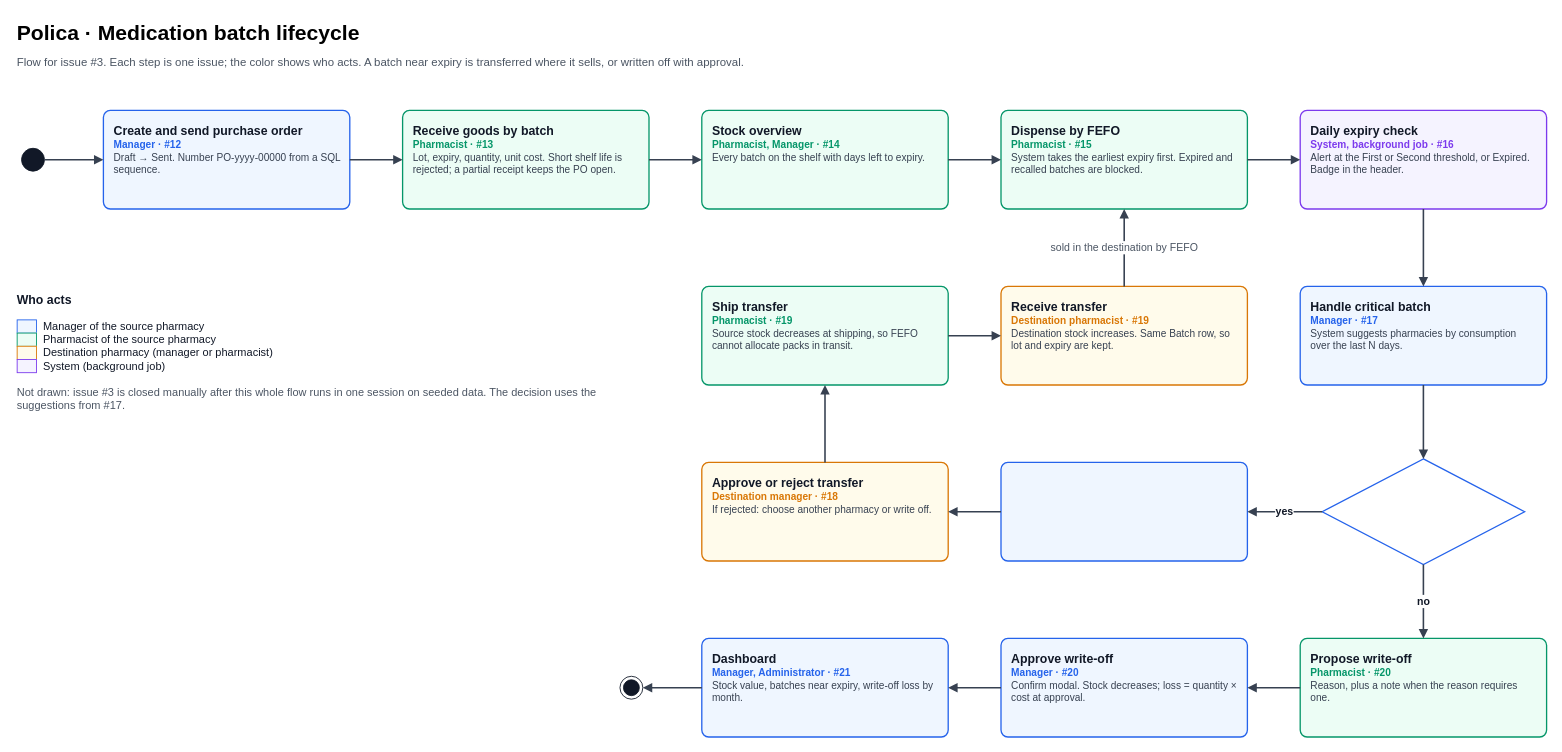
The diagram is 1562 pixels wide and 752 high, and some of its shapes have lost their labels. Each missing label, with the centre of its shape:
"Demand in another pharmacy?" goes at pixel 1423 511.
"Request transfer Manager · #18 Batch, quantity, destination, reason." goes at pixel 1124 511.
